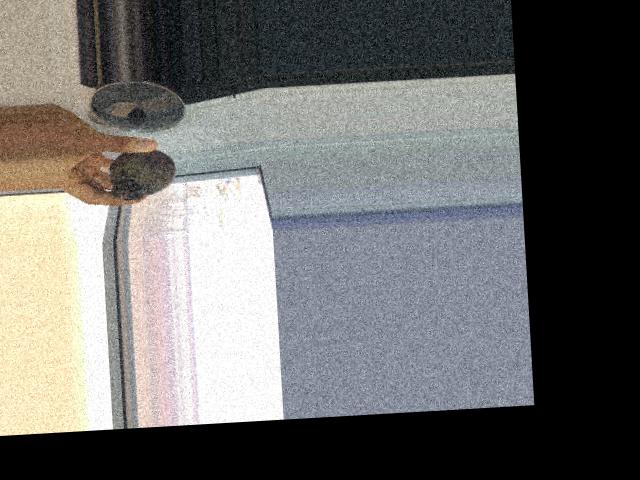beet: (89, 147, 178, 202)
